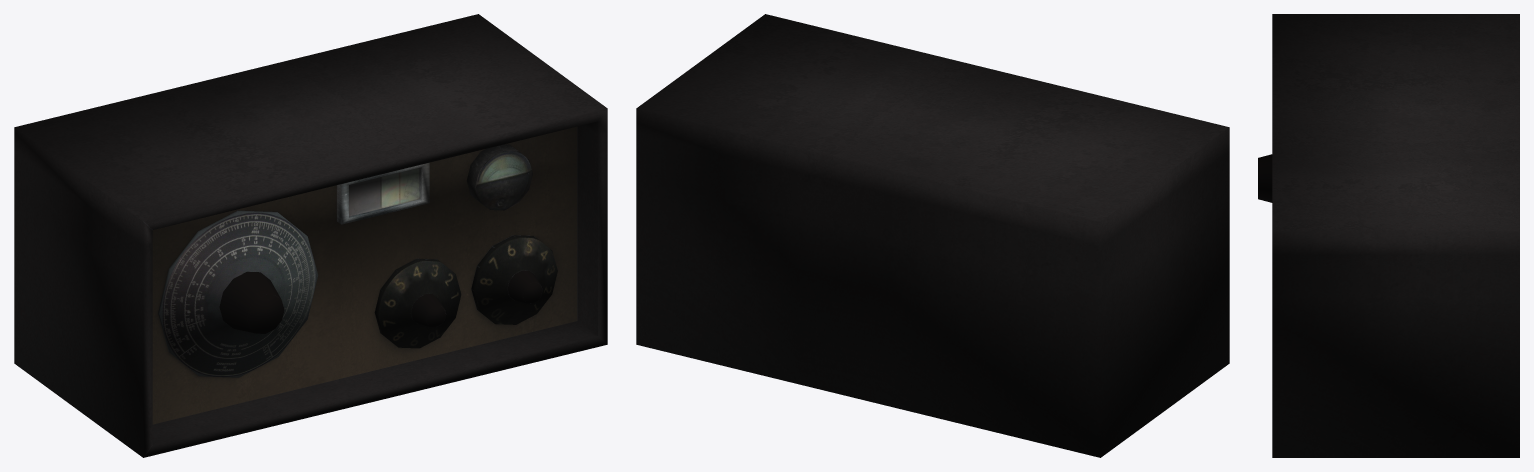
The model's file is Radio.fbx.
The picture shows the model from 3 angles, left to right: view 1: azimuth 30°, elevation 25°; view 2: azimuth 150°, elevation 25°; view 3: azimuth 270°, elevation 25°; orthographic projection. The views are drawn at different scales.
Parts seen in each view (by area): view 1: Cube; view 2: Cube; view 3: Cube.
Part boxes in pixels (x1=…): Cube: x1=14, y1=14, x2=607, y2=457; Cube: x1=636, y1=14, x2=1229, y2=457; Cube: x1=1258, y1=14, x2=1519, y2=457.
Size of what is drawn, in the model's own units: 1.39 by 0.6779 by 0.7095.
